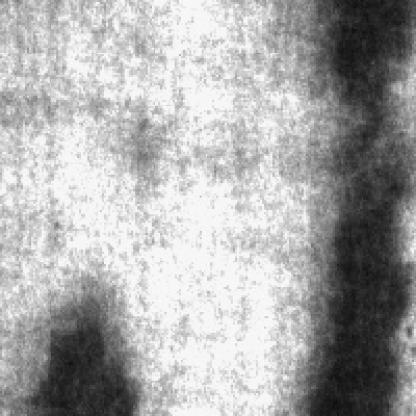patches: (328, 92, 414, 414), (314, 0, 416, 114), (52, 308, 138, 414)
